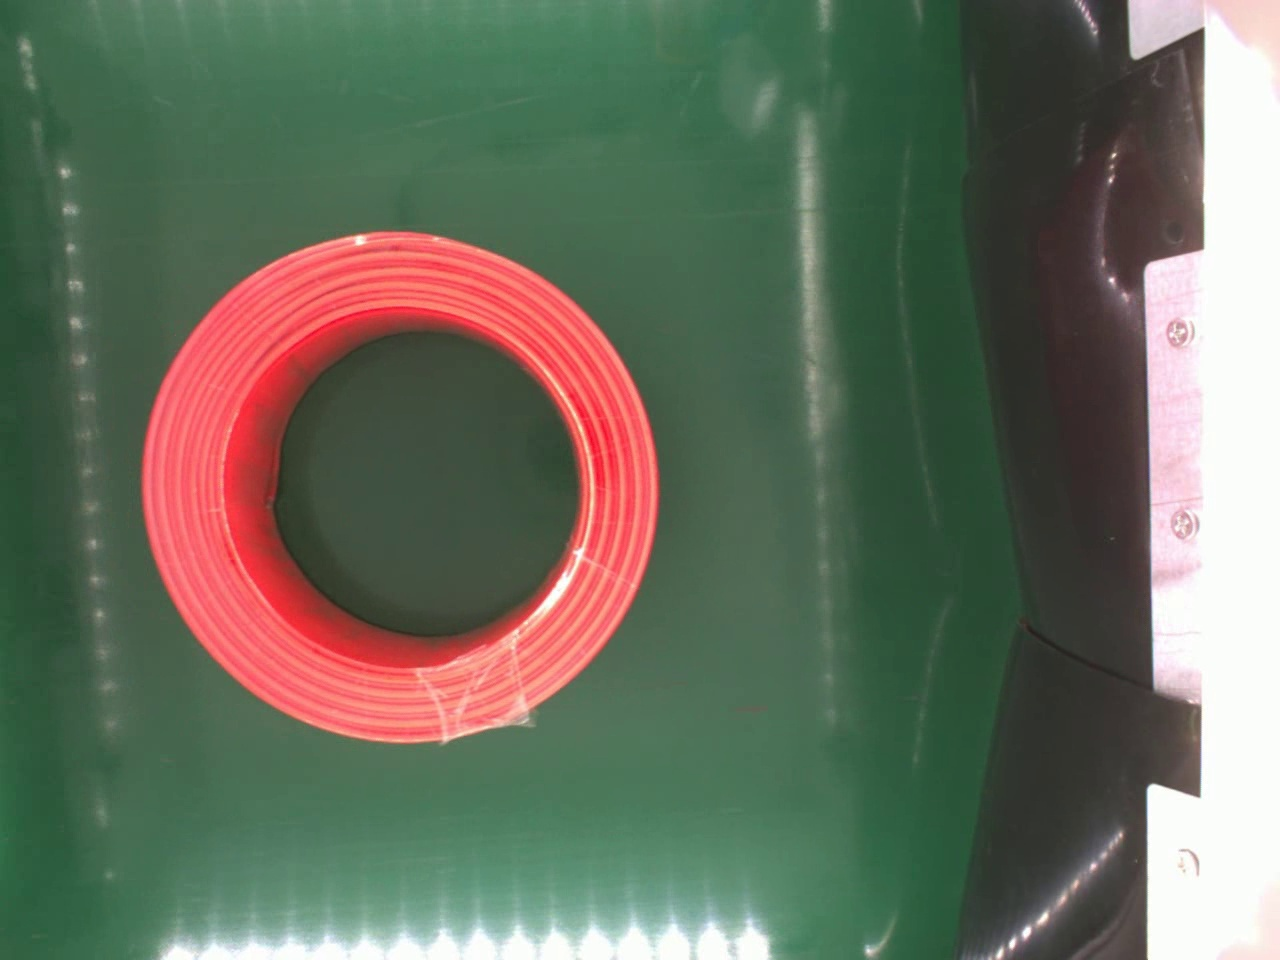red: (138, 228, 662, 742)
